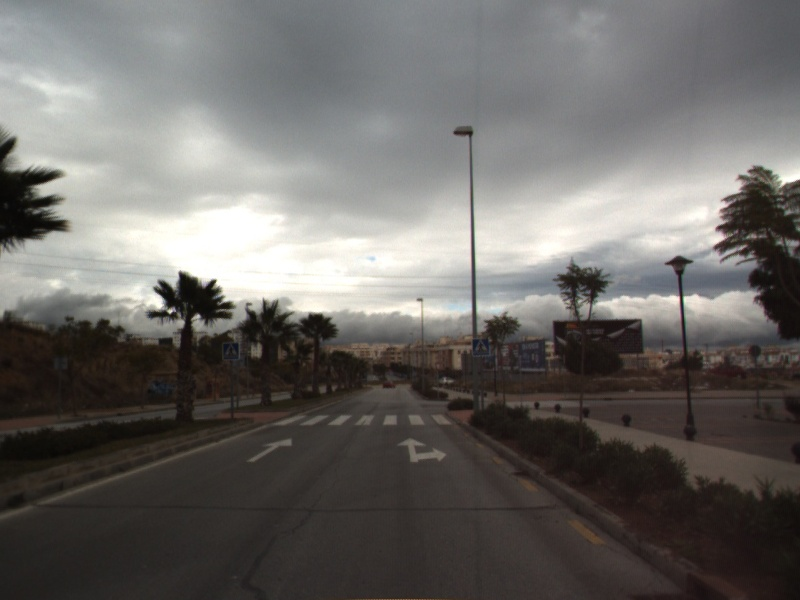STRAIGHT: (244, 437, 294, 464)
STRAIGHT_RIGHT: (395, 435, 449, 464)
